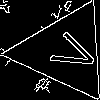V: (39, 26, 100, 77)
